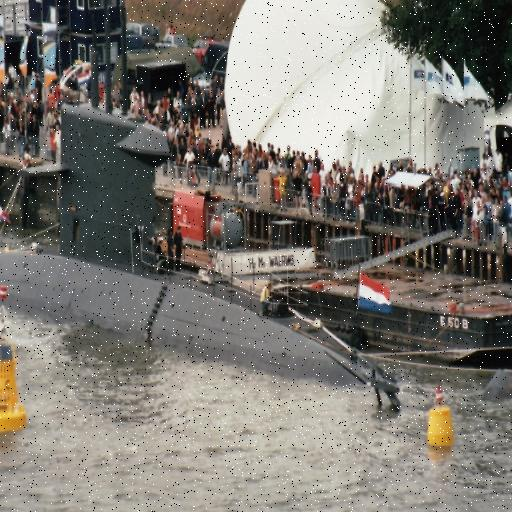submarine: (1, 104, 406, 400)
